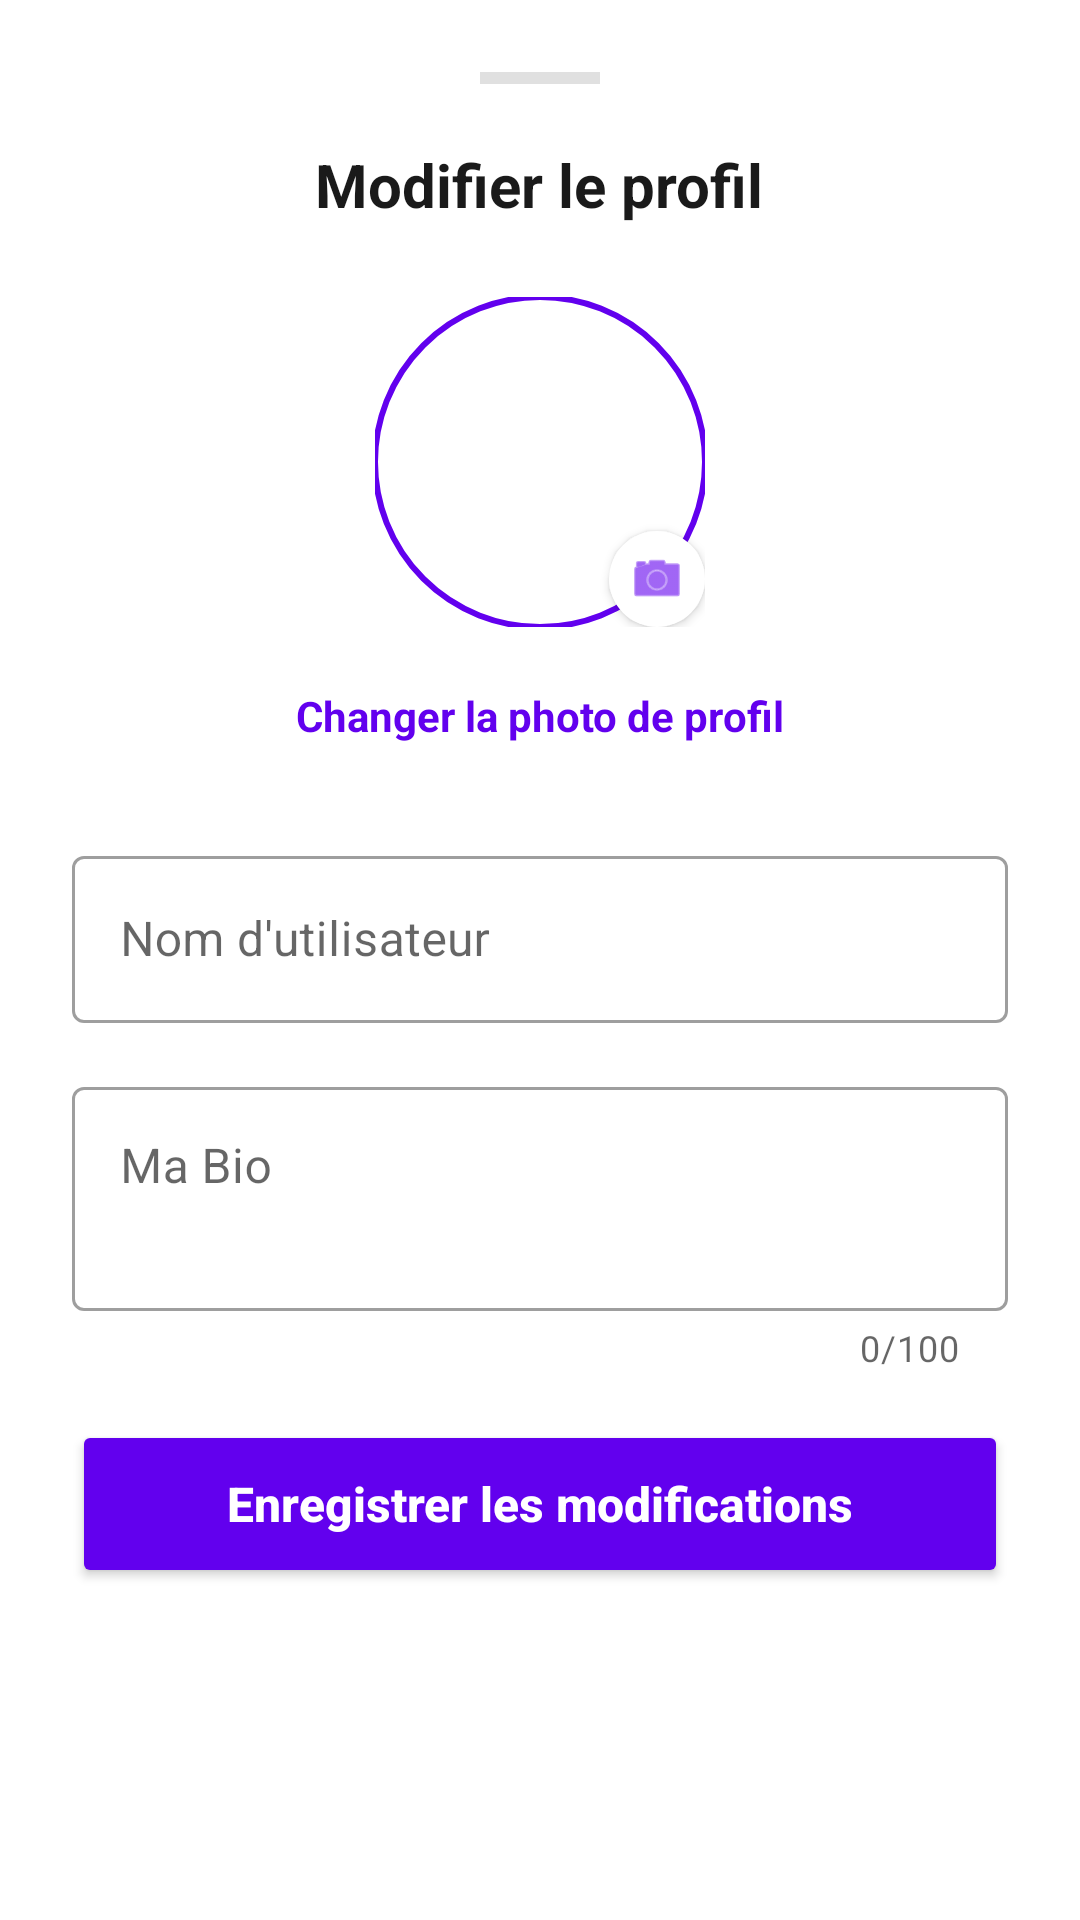

Icons on this 1080px×1920px Android screen, each with the point to tap as (x,y):
camera: (657,593)
